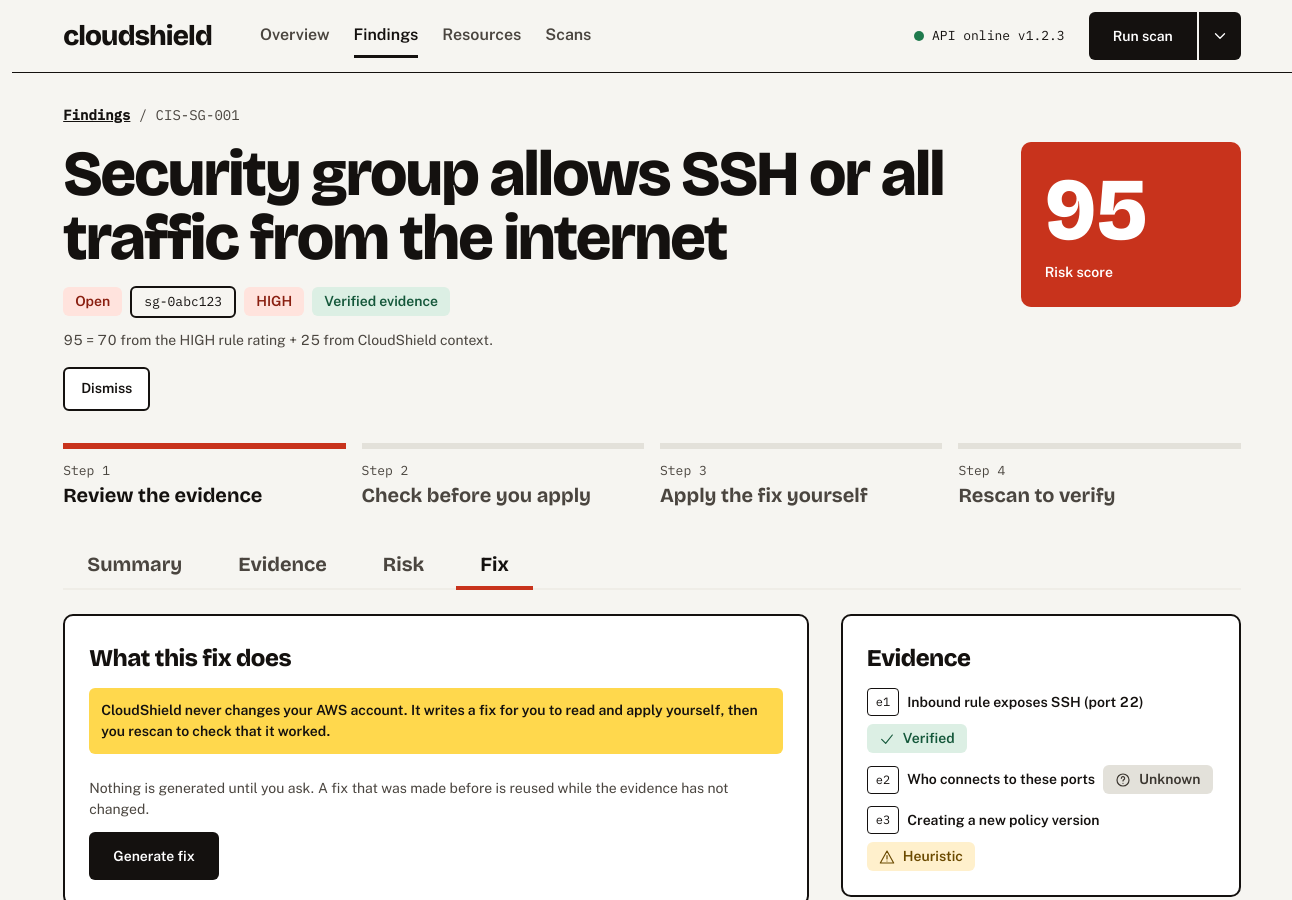
Fix page: imported text is formatted › leaves the guidance of our own findings as plain text
The width and height of the screenshot is (1292, 900).
Click the button "Generate fix" at (154, 856), box left=89, top=832, right=219, bottom=880
(page scrolled)
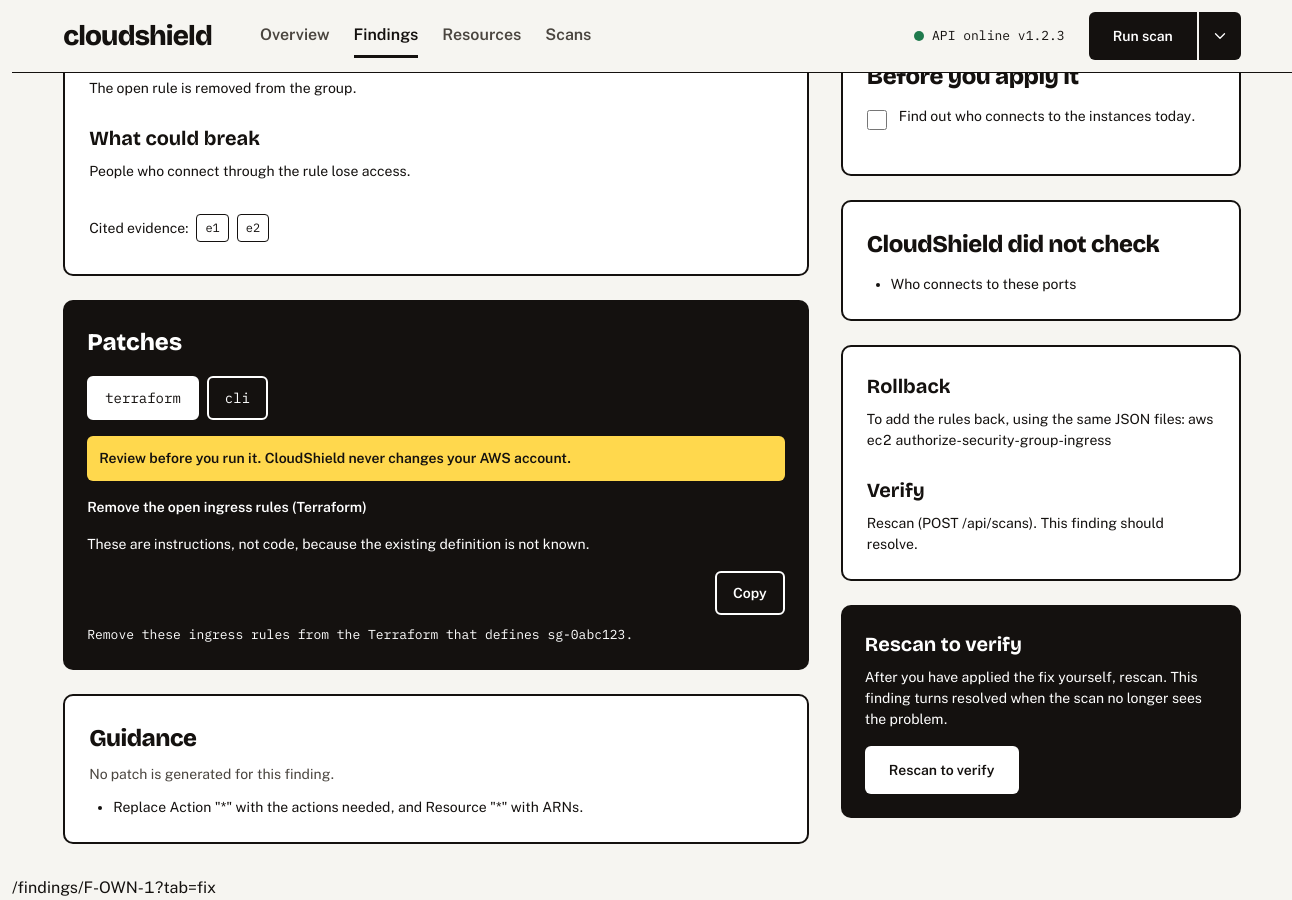
expect the list item "Replace Action \"*\" with the actions needed, and Resource \"*\" with ARNs." is shown: met, box left=113, top=799, right=583, bottom=815
